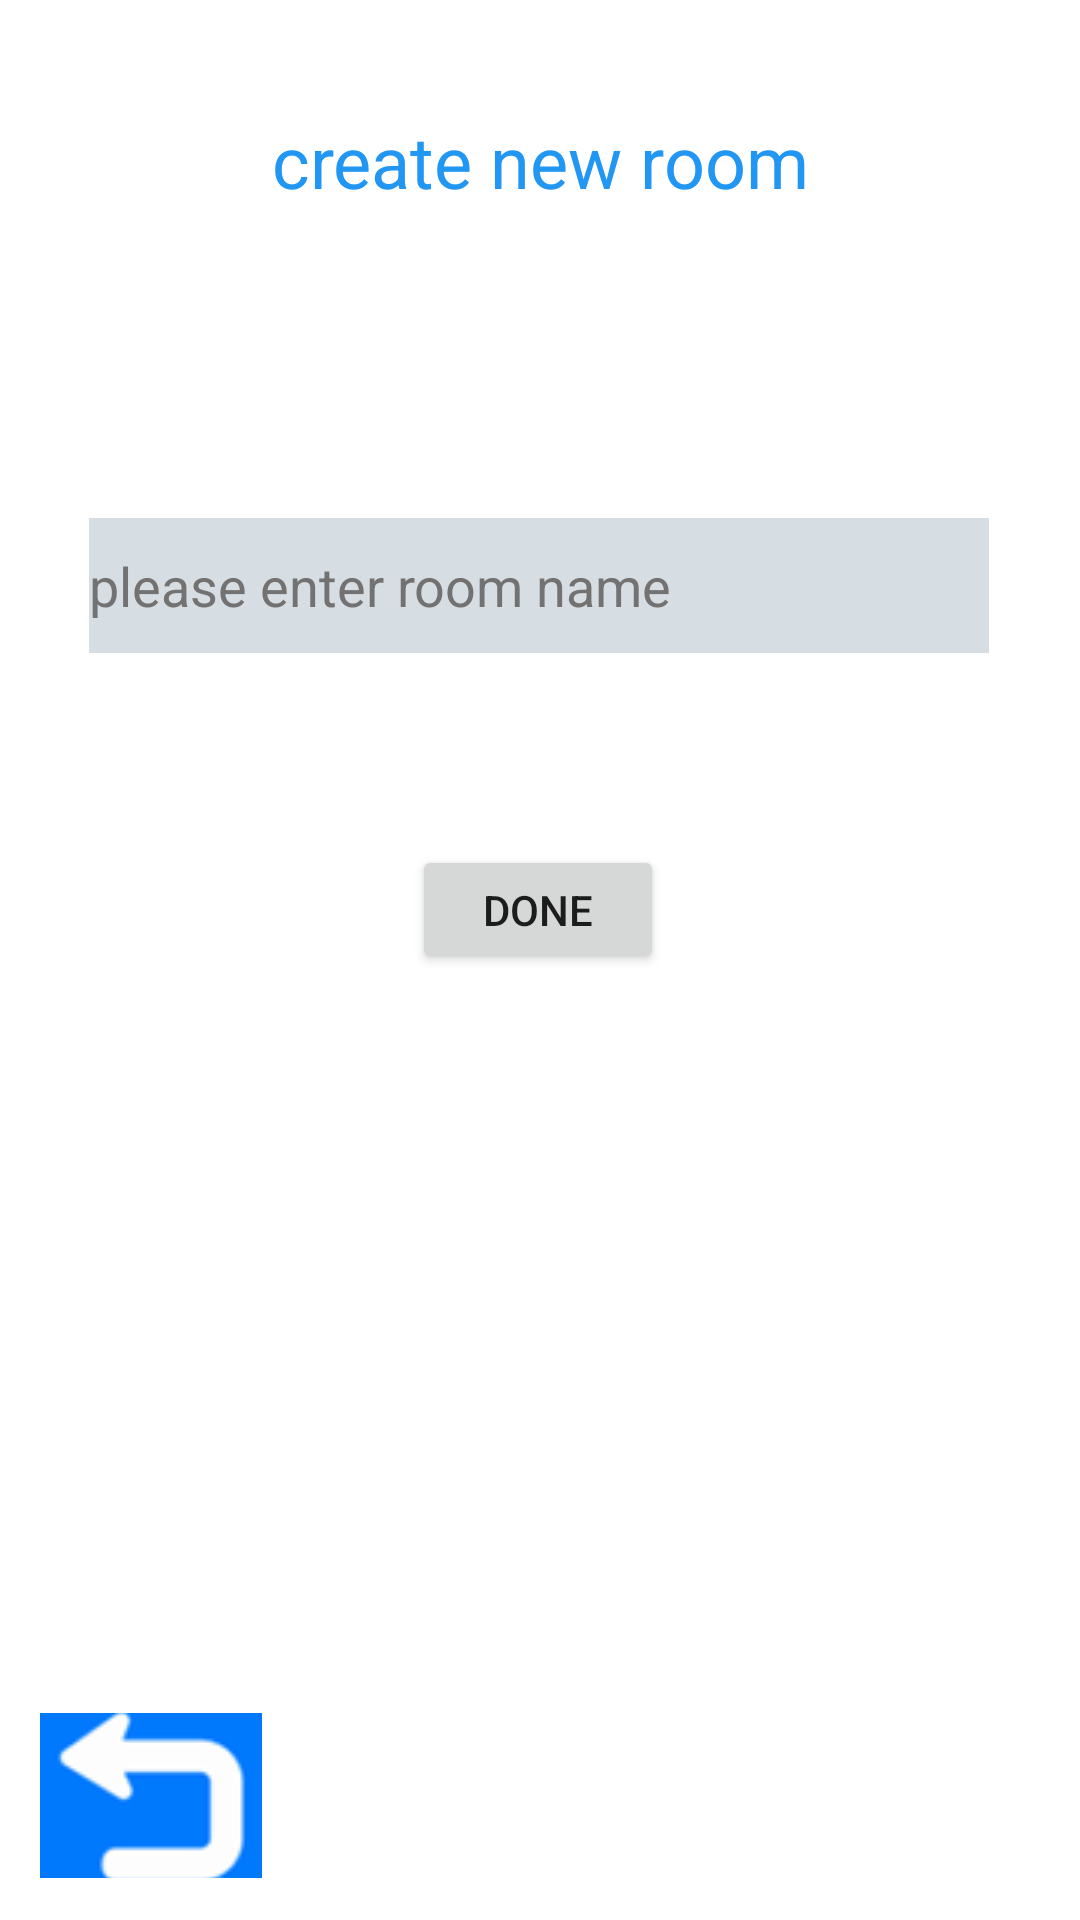

Named icons in this screenshot (1080x1920) and their bounding boxes, BBox(x1, y1, x2, y2):
back: BBox(40, 1713, 262, 1878)
